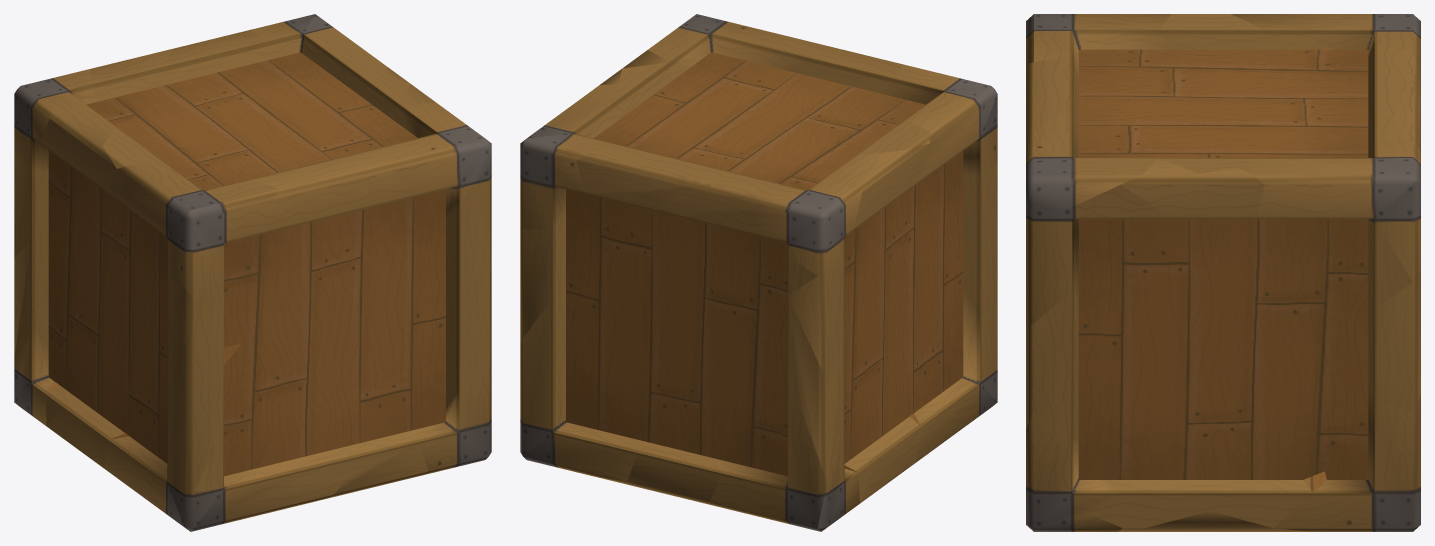
The model's file is box pieces.fbx.
3 renders of one model, left to right at view 1: azimuth 30°, elevation 25°; view 2: azimuth 150°, elevation 25°; view 3: azimuth 270°, elevation 25°, orthographic. The views are drawn at different scales.
Parts seen in each view (by area): view 1: polySurface90, polySurface15, polySurface92, polySurface23, polySurface65, polySurface35, polySurface155, polySurface43, polySurface80, polySurface69, polySurface86, polySurface103 (+20 smaller); view 2: polySurface82, polySurface78, polySurface51, polySurface65, polySurface96, polySurface84, polySurface31, polySurface15, polySurface155, polySurface55, polySurface98, polySurface33 (+19 smaller); view 3: polySurface31, polySurface9, polySurface25, polySurface15, polySurface11, polySurface7, polySurface5, polySurface13, polySurface19, polySurface27, polySurface3, polySurface65 (+12 smaller).
Boxes of the visible parts, x1=… form: polySurface90: x1=191, y1=319, x2=344, y2=531; polySurface15: x1=305, y1=102, x2=491, y2=276; polySurface92: x1=152, y1=278, x2=286, y2=527; polySurface23: x1=237, y1=148, x2=419, y2=249; polySurface65: x1=89, y1=162, x2=279, y2=258; polySurface35: x1=279, y1=226, x2=410, y2=354; polySurface155: x1=244, y1=74, x2=410, y2=153; polySurface43: x1=305, y1=311, x2=445, y2=444; polySurface80: x1=167, y1=229, x2=312, y2=344; polySurface69: x1=148, y1=189, x2=302, y2=300; polySurface86: x1=14, y1=152, x2=94, y2=290; polySurface103: x1=47, y1=313, x2=156, y2=471; polySurface82: x1=701, y1=350, x2=827, y2=531; polySurface78: x1=581, y1=283, x2=754, y2=426; polySurface51: x1=566, y1=133, x2=716, y2=287; polySurface65: x1=859, y1=64, x2=997, y2=238; polySurface96: x1=904, y1=275, x2=997, y2=464; polySurface84: x1=746, y1=275, x2=844, y2=481; polySurface31: x1=520, y1=278, x2=599, y2=455; polySurface15: x1=648, y1=14, x2=810, y2=97; polySurface155: x1=618, y1=62, x2=800, y2=150; polySurface55: x1=647, y1=145, x2=817, y2=237; polySurface98: x1=859, y1=175, x2=962, y2=384; polySurface33: x1=523, y1=375, x2=651, y2=481; polySurface31: x1=1266, y1=368, x2=1420, y2=531; polySurface9: x1=1190, y1=341, x2=1322, y2=527; polySurface25: x1=1244, y1=219, x2=1412, y2=367; polySurface15: x1=1026, y1=103, x2=1167, y2=324; polySurface11: x1=1121, y1=158, x2=1287, y2=336; polySurface7: x1=1106, y1=281, x2=1265, y2=442; polySurface5: x1=1078, y1=371, x2=1209, y2=528; polySurface13: x1=1063, y1=184, x2=1172, y2=336; polySurface19: x1=1237, y1=150, x2=1412, y2=248; polySurface27: x1=1302, y1=272, x2=1420, y2=411; polySurface3: x1=1026, y1=292, x2=1121, y2=439; polySurface65: x1=1034, y1=14, x2=1171, y2=83.
Bounding box in the file's own units: 0.5548 × 0.5548 × 0.5548.
1 material, 1 textured.
